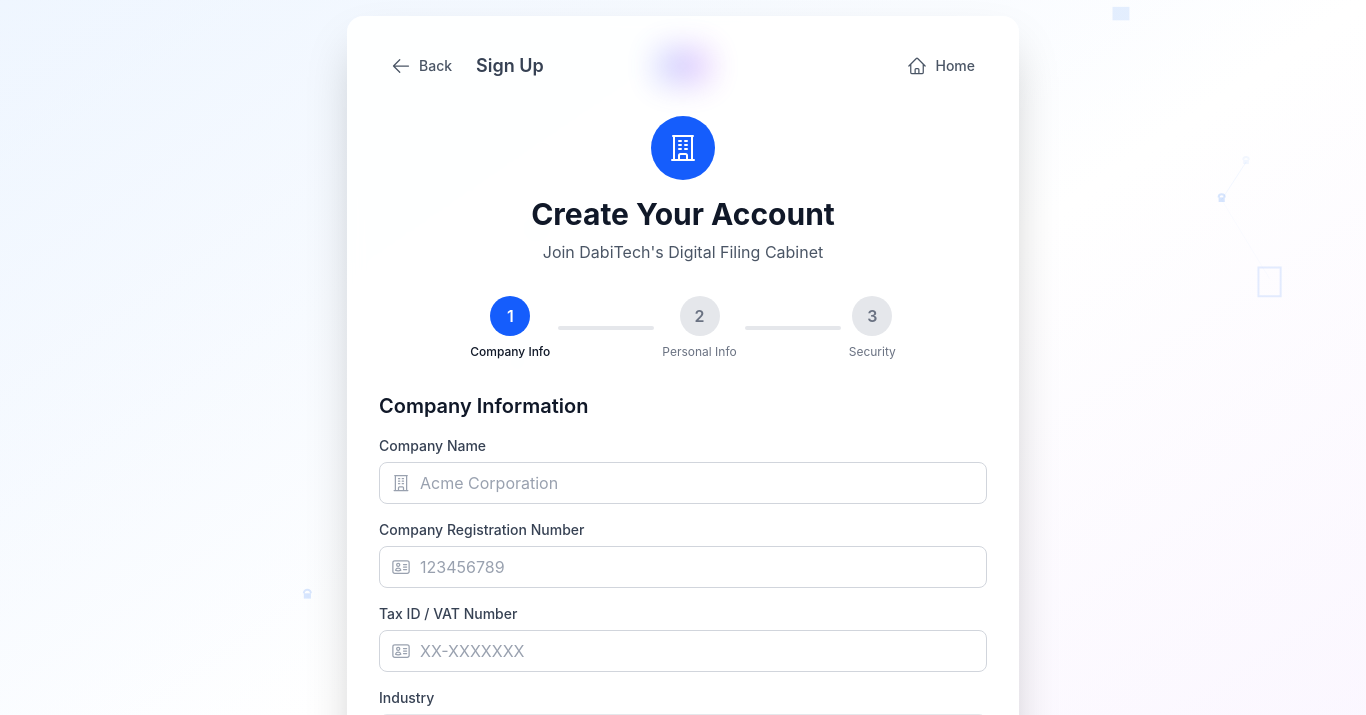
it: SignUp Component › Step 1: Company Information › should show validation error for short company name
Type "A" into the field labelled "Company Name" at (683, 483), box [379,462,987,504]
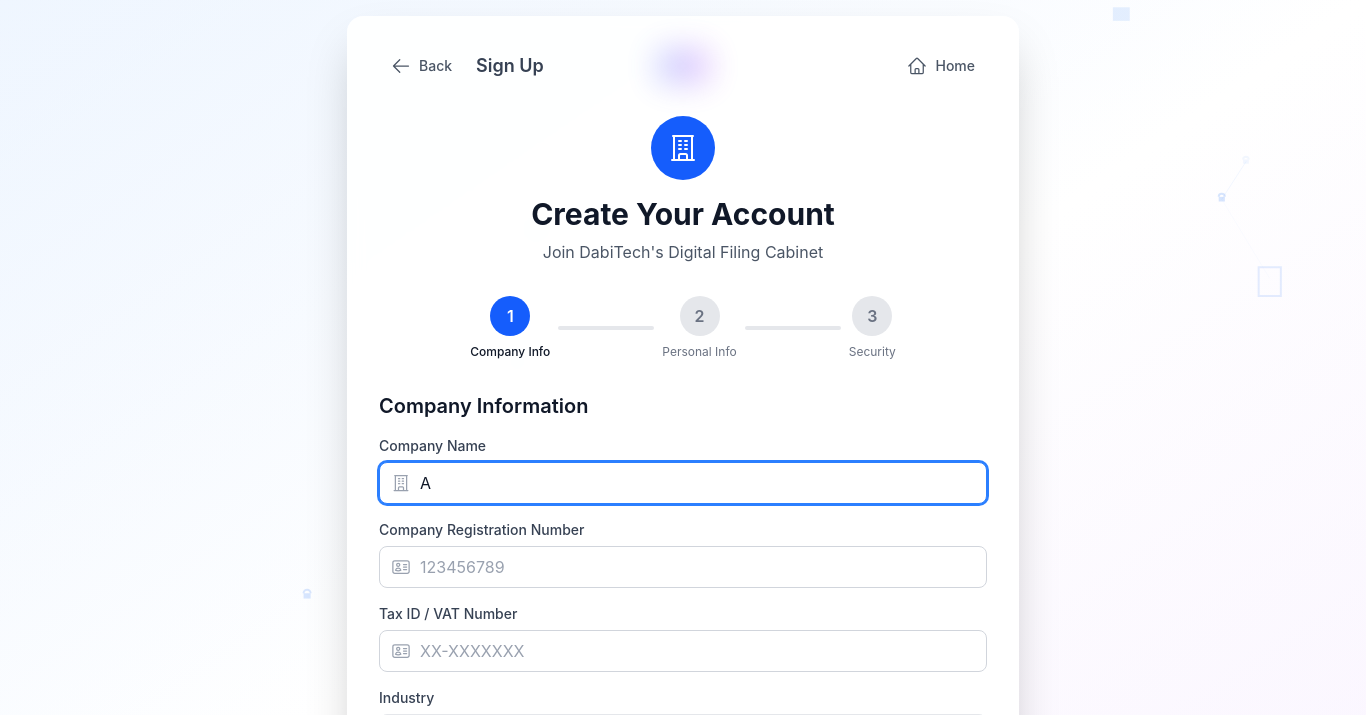
Press Tab
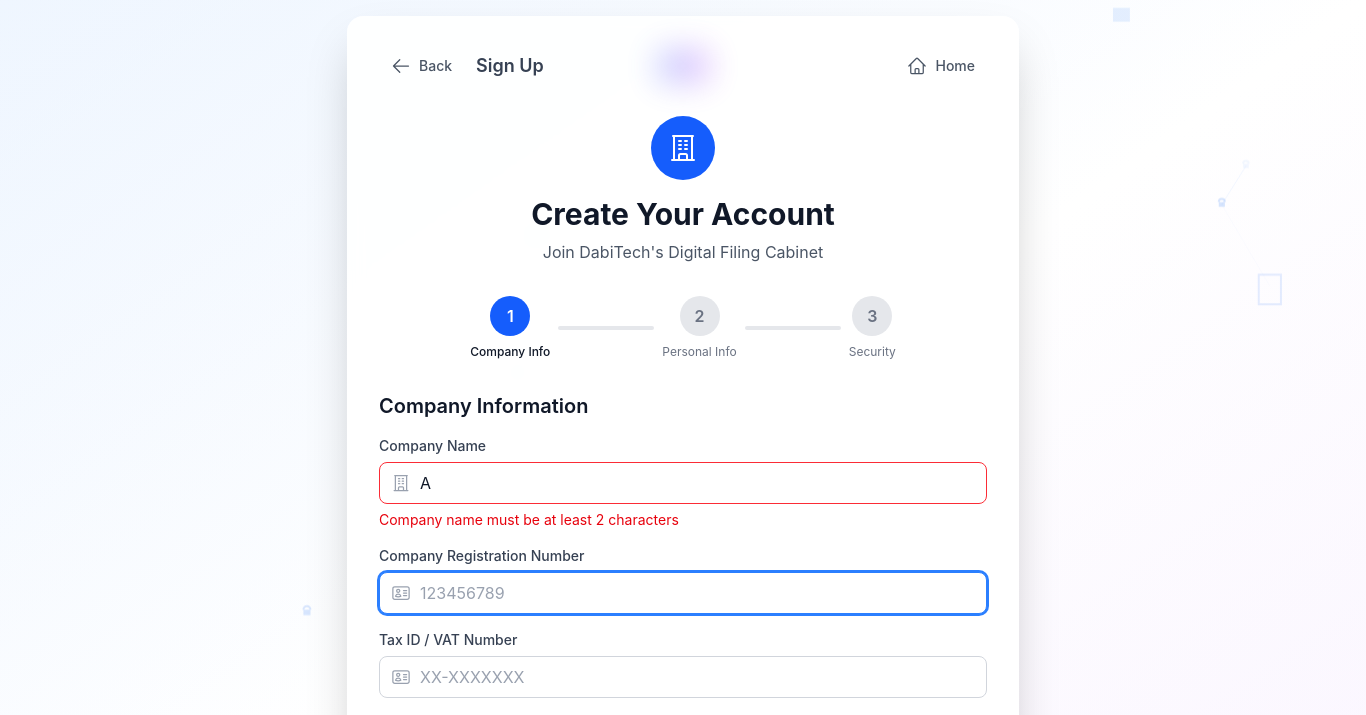
expect the text "Company name must be at least 2 characters" is shown: met, box [379,511,679,528]
